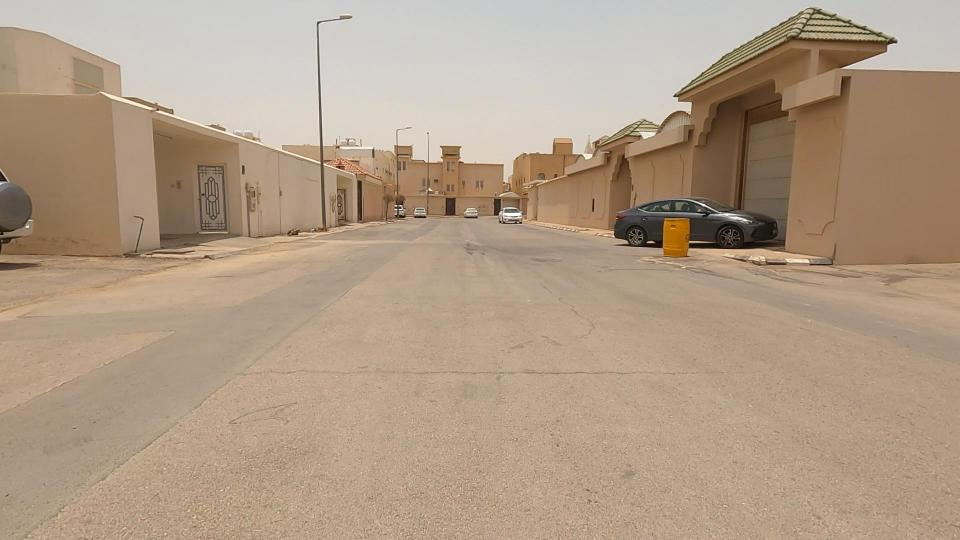POTHOLES: (433, 214, 517, 289), (508, 237, 575, 285)
